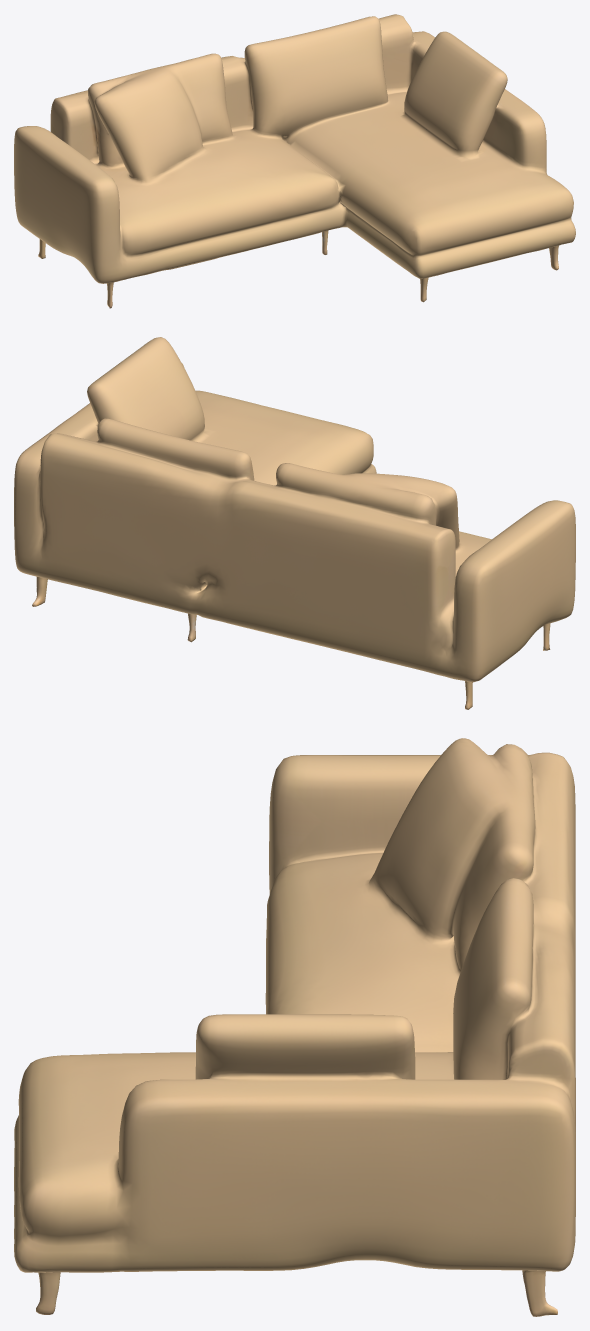
The picture shows the model from 3 angles, top to bottom: view 1: azimuth 30°, elevation 25°; view 2: azimuth 150°, elevation 25°; view 3: azimuth 270°, elevation 25°; orthographic projection. The views are drawn at different scales.
Parts seen in each view (by area): view 1: model; view 2: model; view 3: model.
Boxes of the visible parts, box(x1,y1,x2,y2) form: model: box(14, 14, 575, 308); model: box(14, 337, 575, 709); model: box(14, 738, 575, 1316).
Size of the model in its own units: 1.9 by 0.7477 by 1.28.
Materials: 1 (1 with a texture image).
